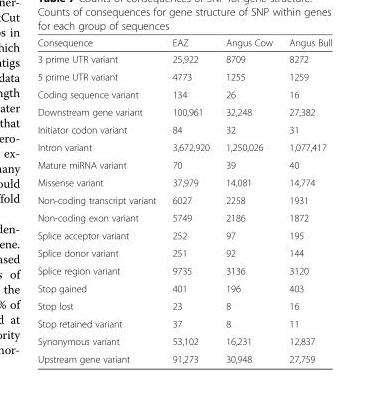table: (36, 36, 331, 364)
table column: (36, 36, 163, 364), (217, 36, 280, 364), (163, 36, 217, 364), (280, 36, 331, 364)
table column header: (36, 36, 331, 50)
table row: (36, 67, 331, 85), (36, 102, 331, 120), (36, 120, 331, 138), (36, 155, 331, 173), (36, 173, 331, 191), (36, 208, 331, 226), (36, 243, 331, 261), (36, 261, 331, 279), (36, 296, 331, 314), (36, 314, 331, 332), (36, 50, 331, 67), (36, 85, 331, 102), (36, 138, 331, 155), (36, 191, 331, 208), (36, 226, 331, 243), (36, 279, 331, 296), (36, 332, 331, 349), (36, 349, 331, 364), (36, 36, 331, 50)
